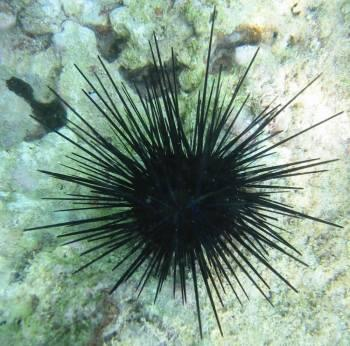urchin: (23, 8, 340, 332)
